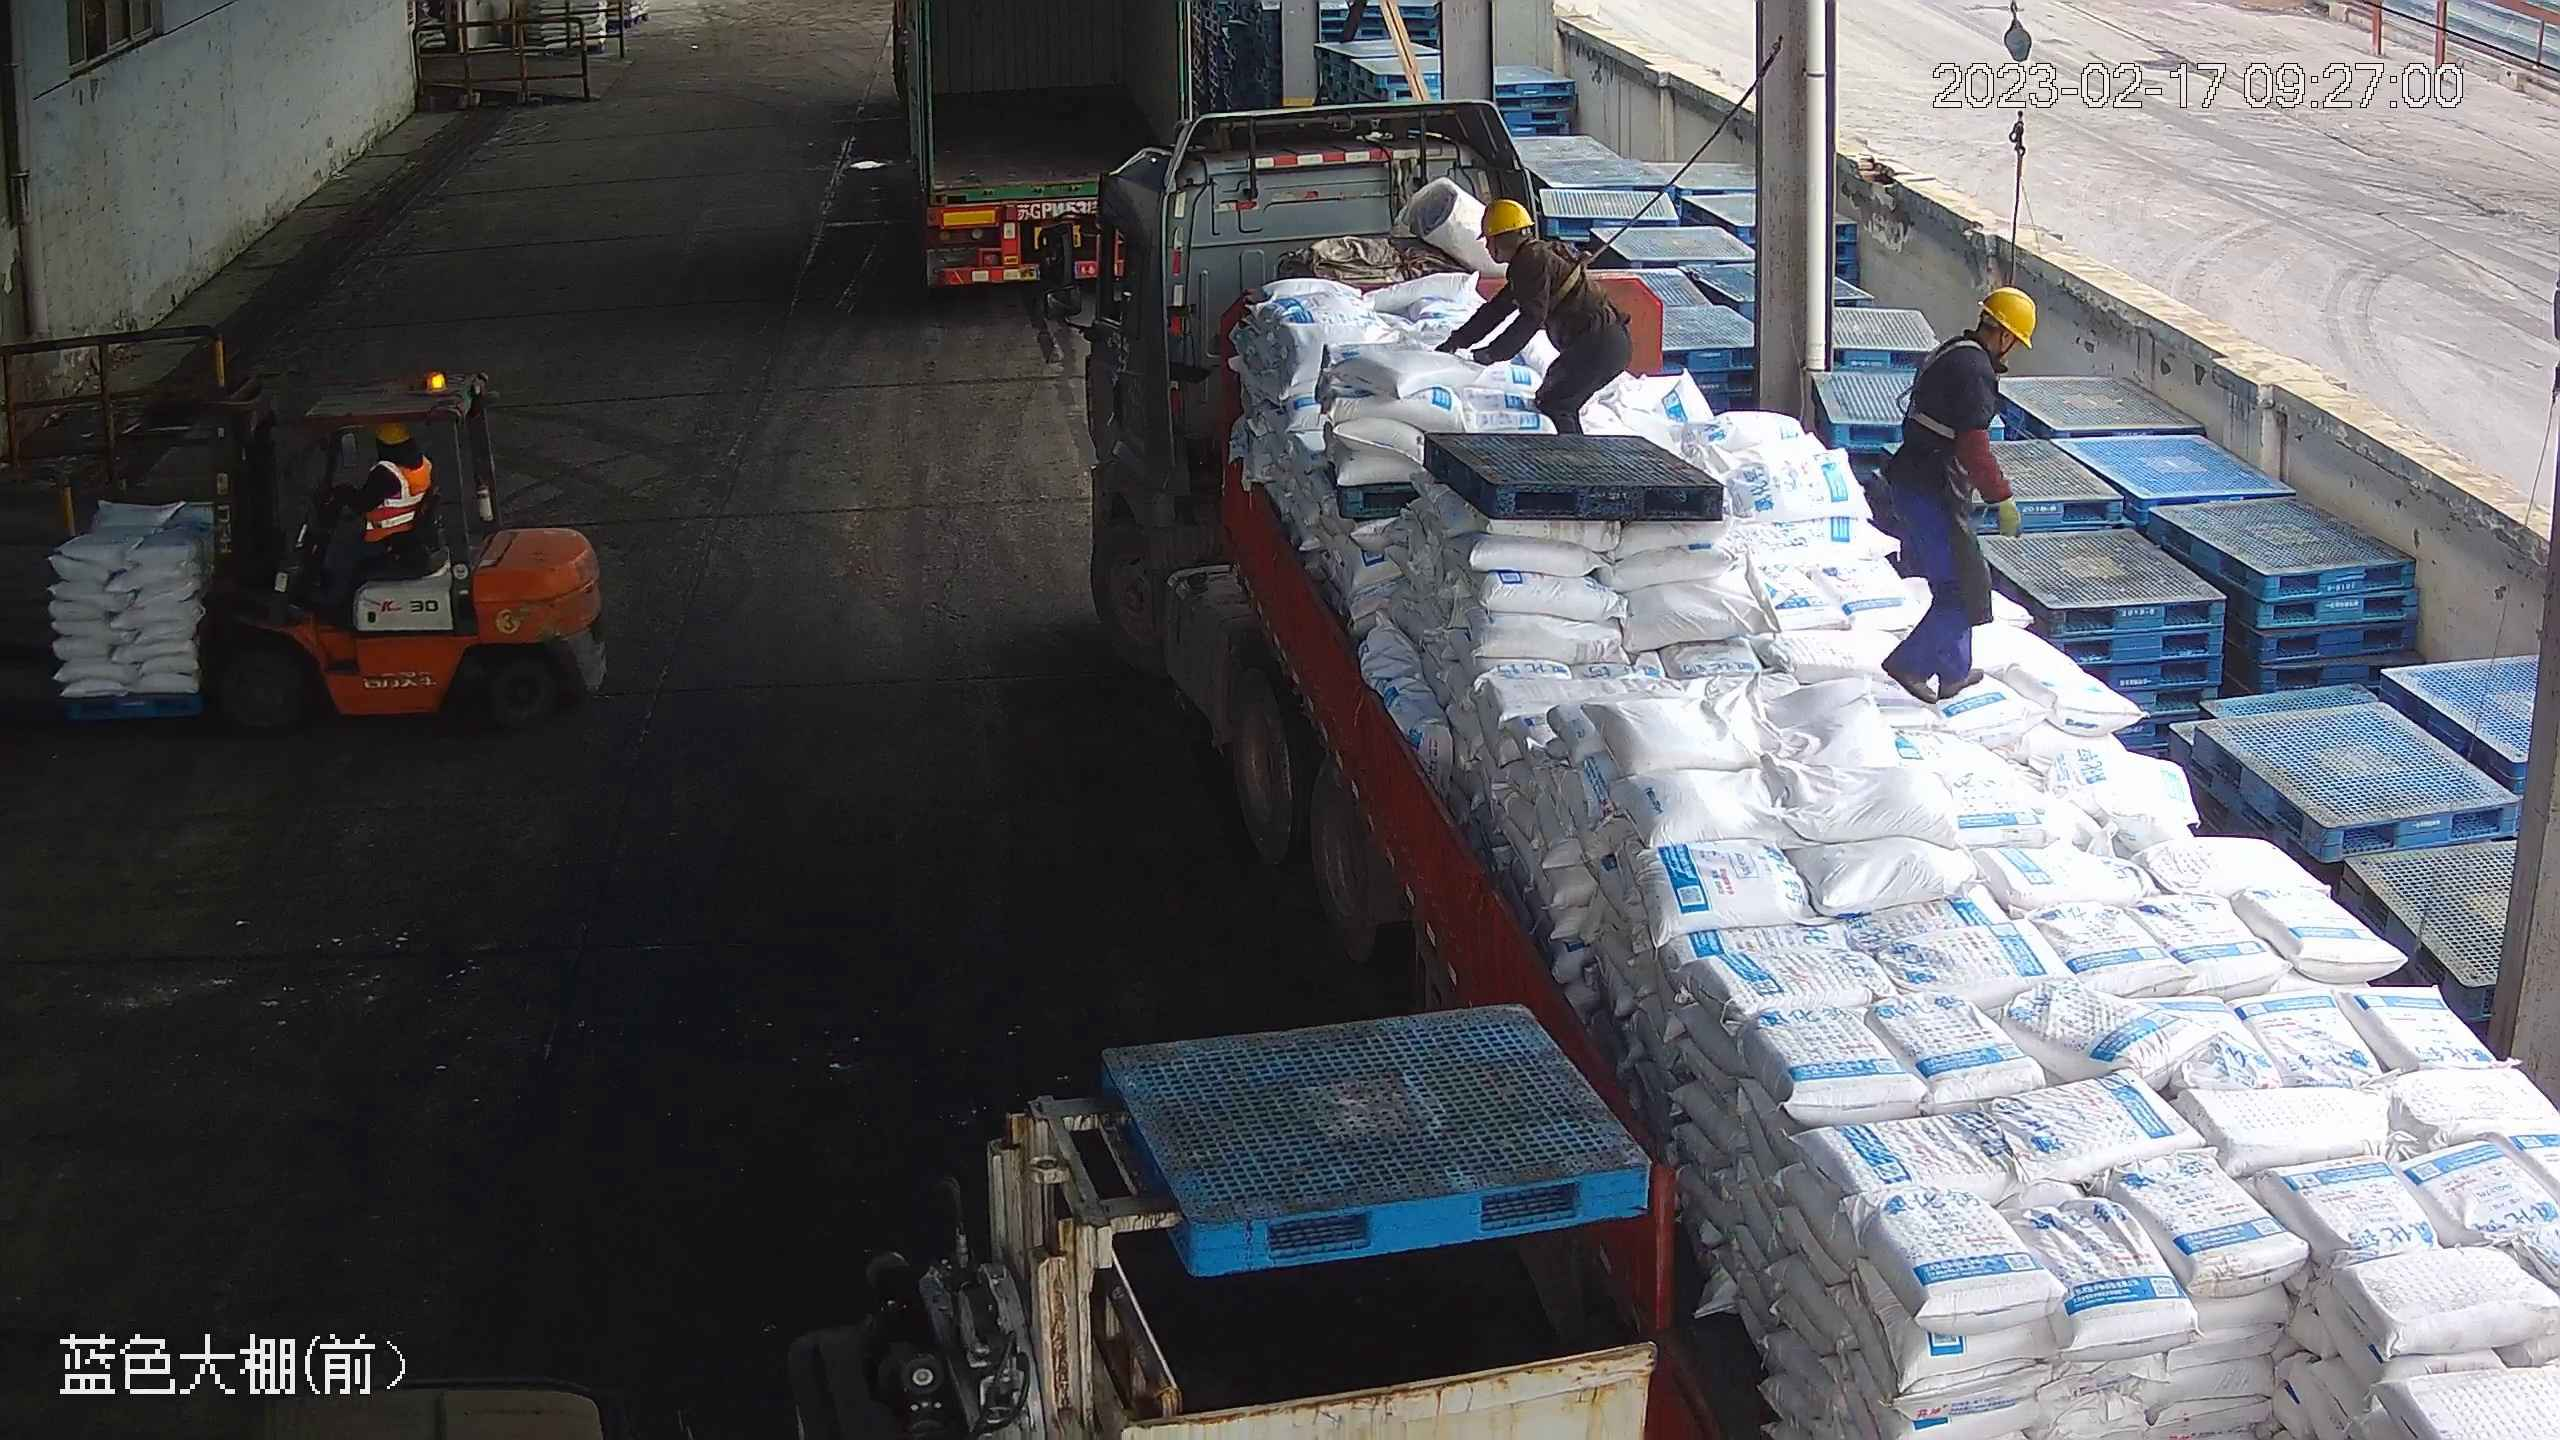belt: (1895, 331, 1994, 438), (1520, 229, 1594, 309)
head: (1915, 282, 2040, 407), (1475, 195, 1569, 282), (361, 418, 430, 493)
helmet: (1976, 283, 2037, 348), (1478, 194, 1532, 237), (369, 414, 421, 451)
people: (1868, 277, 2036, 709), (1430, 196, 1634, 435), (312, 419, 432, 601)
truck: (1041, 93, 2560, 1440), (885, 1, 1201, 300)
